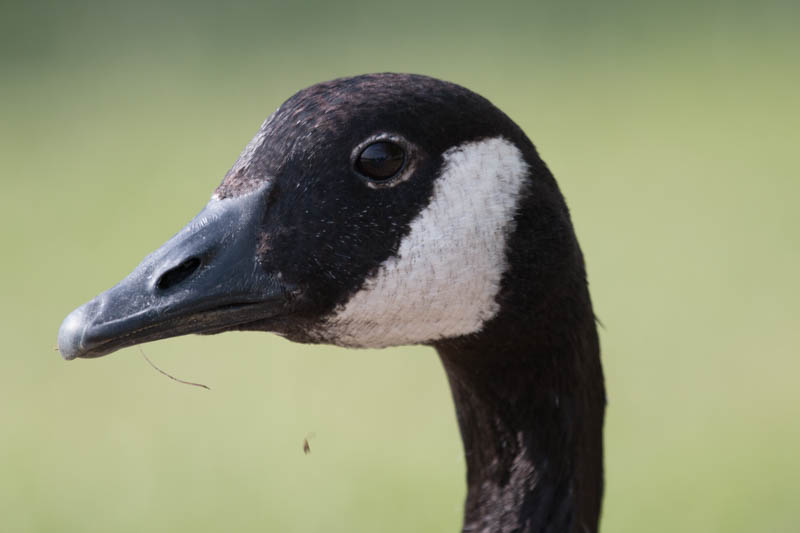goose-head: (53, 72, 588, 364)
